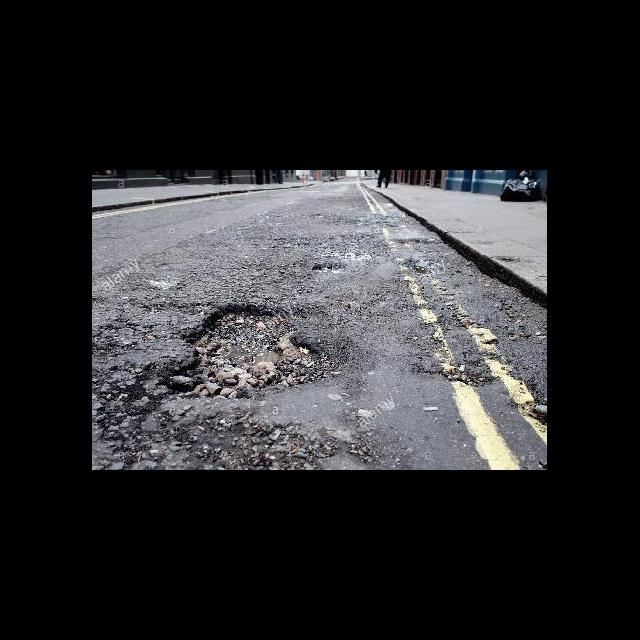lubang_kecil: (161, 291, 333, 409)
